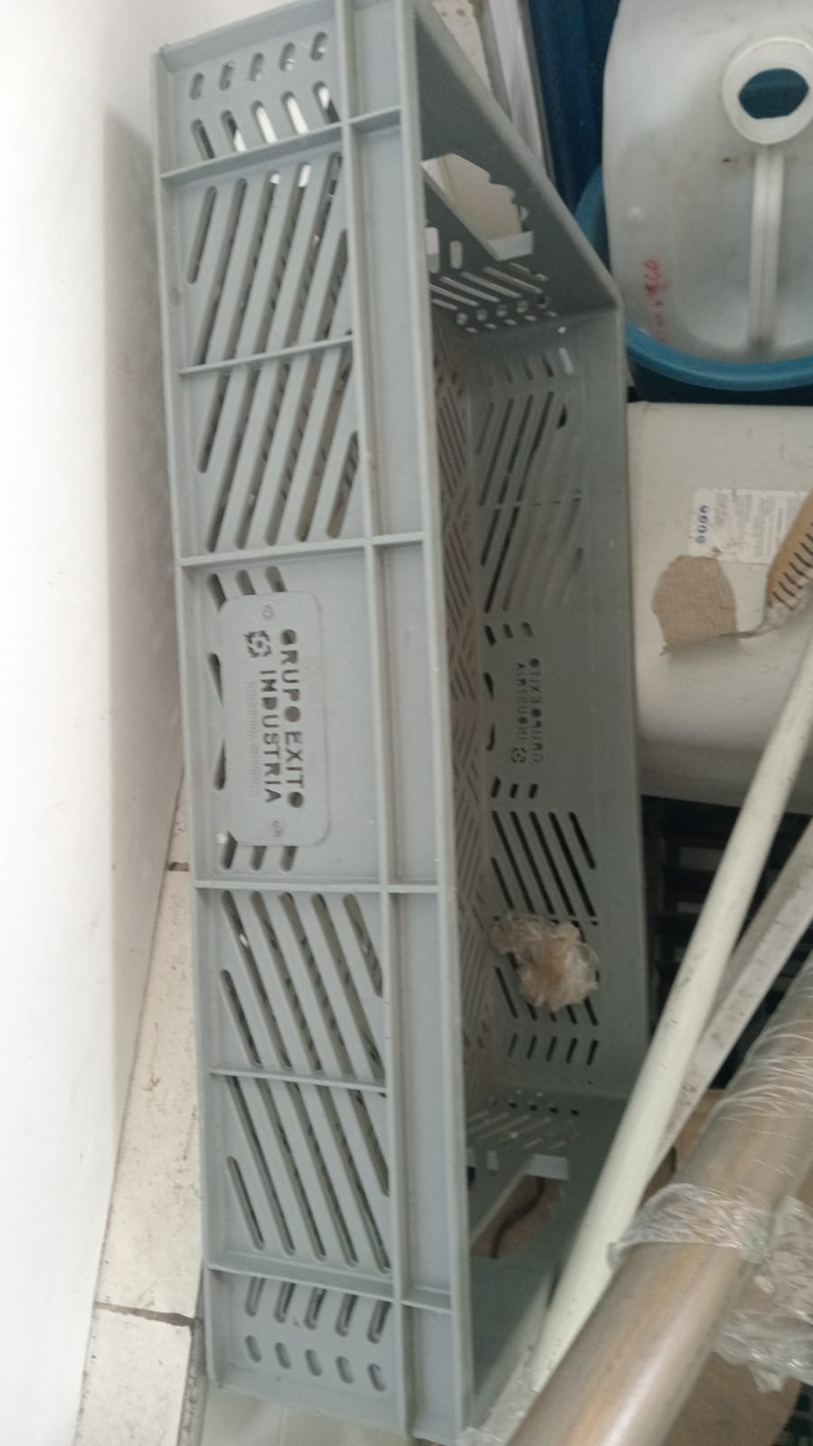Plastico: (151, 0, 651, 1444)
